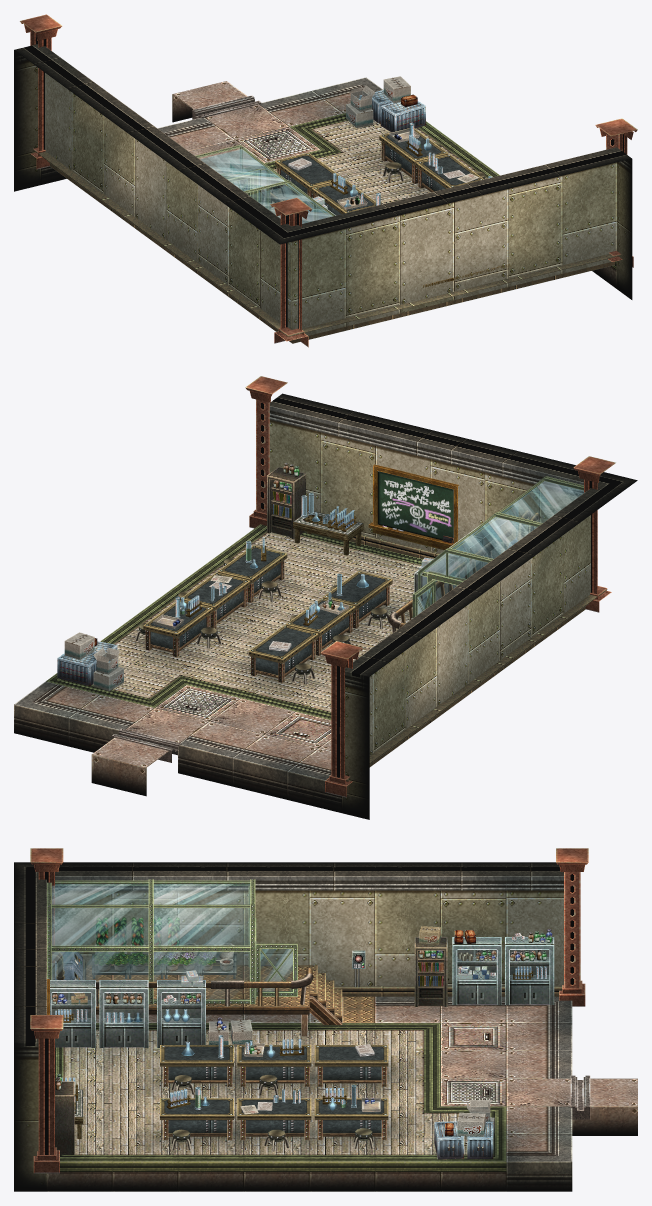
Rendered from anterose.gltf.
3 views of the same model, one above another, from view 1: azimuth 30°, elevation 25°; view 2: azimuth 150°, elevation 25°; view 3: azimuth 270°, elevation 25° (orthographic). The views are drawn at different scales.
Parts seen in each view (by area): view 1: mesh_CD3DFile_Mesh (×10); view 2: mesh_CD3DFile_Mesh (×10); view 3: mesh_CD3DFile_Mesh (×10).
Part boxes in pixels (x1,y1,x2,y2): mesh_CD3DFile_Mesh (×10): (14,14,637,347); mesh_CD3DFile_Mesh (×10): (14,376,637,819); mesh_CD3DFile_Mesh (×10): (14,848,637,1191).
Bounding box in the file's own units: 13.5 × 5.7 × 19.
22 materials, 22 textured.
